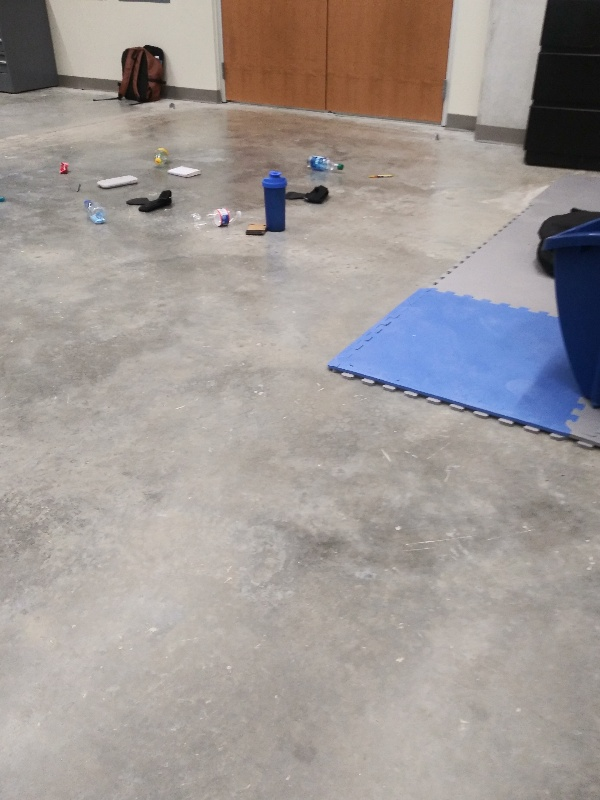bottle: (187, 206, 245, 232), (301, 153, 346, 173), (81, 196, 110, 225), (152, 141, 170, 168)
